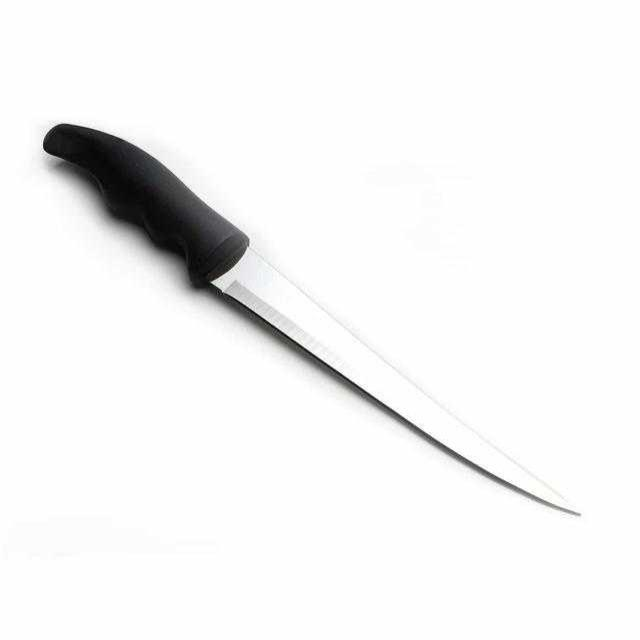Knife: (30, 84, 588, 528)
